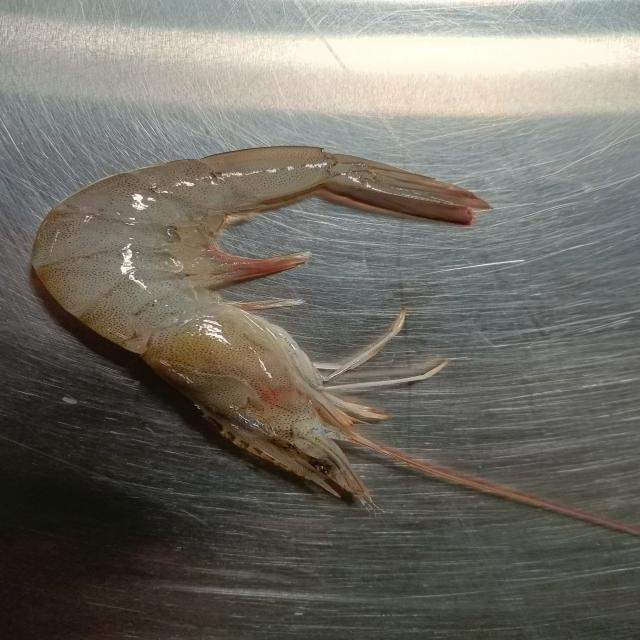shrimp: (26, 143, 494, 503)
